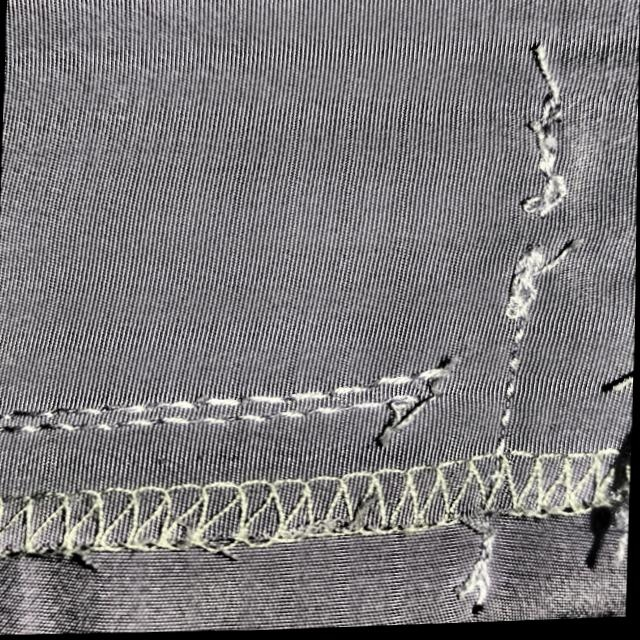Stitch: (340, 317, 555, 456), (467, 129, 620, 316), (479, 36, 619, 195)
